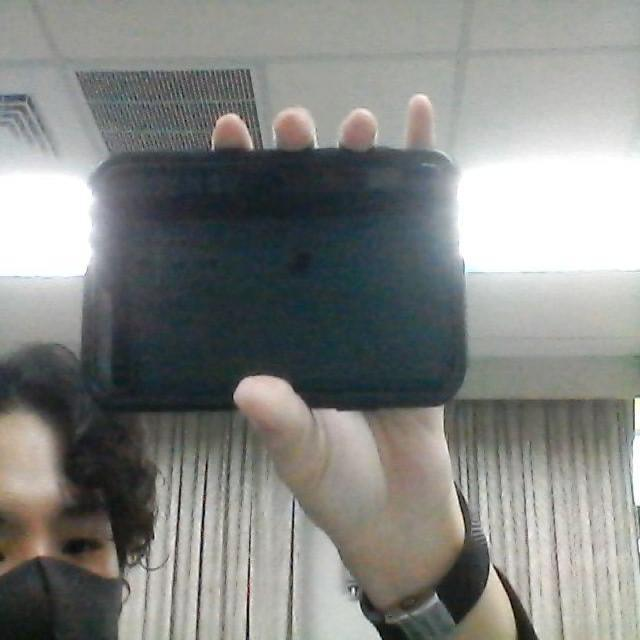Phone: (79, 141, 469, 414)
